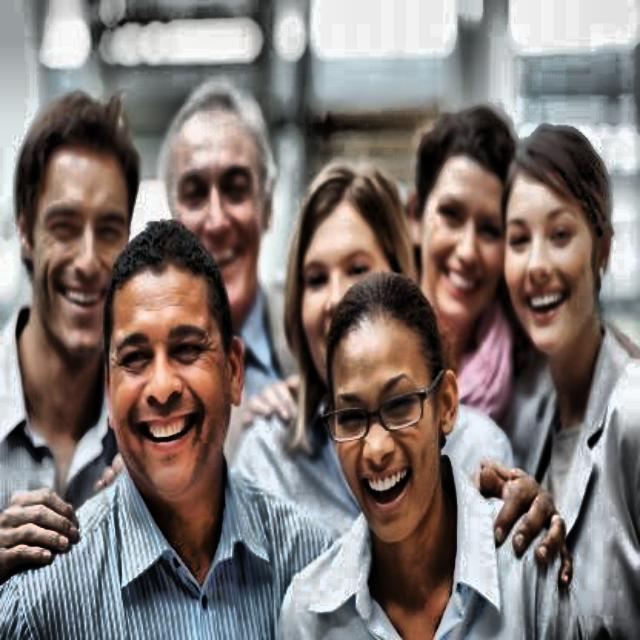happy: (92, 222, 252, 515), (320, 269, 455, 550), (10, 99, 140, 372), (288, 171, 426, 412), (151, 74, 280, 329), (501, 118, 622, 367), (407, 99, 520, 326)
